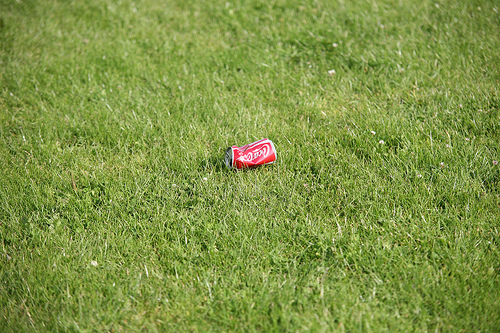litter: (223, 138, 276, 169)
